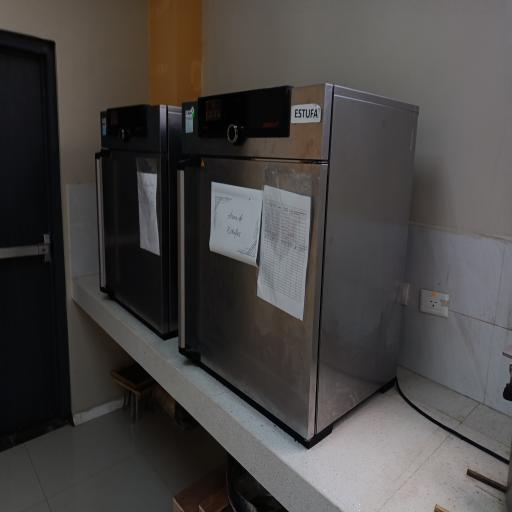Estufa_Memmert: (180, 92, 434, 452)
